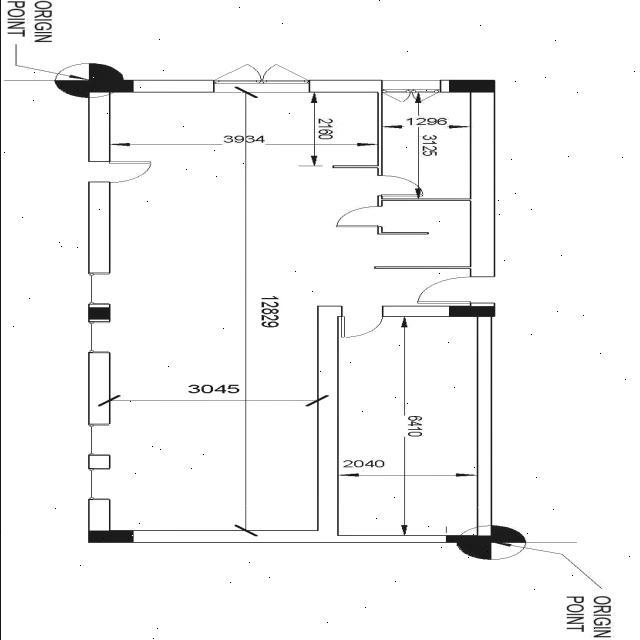Column: (82, 80, 136, 92), (447, 304, 492, 318), (84, 530, 136, 542), (447, 80, 497, 92), (446, 536, 494, 542), (90, 307, 112, 320)
Door: (405, 274, 475, 306), (85, 157, 156, 188), (335, 309, 388, 342), (330, 204, 386, 232), (373, 170, 423, 198)
Window: (215, 62, 312, 94), (80, 264, 124, 304), (80, 421, 122, 457), (378, 82, 446, 102), (85, 322, 118, 354), (84, 470, 118, 501)
